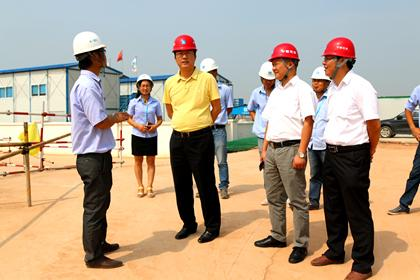boots: (85, 255, 122, 268), (254, 234, 287, 246), (311, 253, 343, 265), (174, 221, 196, 238), (343, 268, 372, 280), (289, 246, 307, 263), (198, 228, 219, 242), (101, 241, 119, 253), (387, 205, 410, 214), (219, 187, 229, 198), (145, 186, 154, 197), (137, 185, 144, 197)
hard-hat: (71, 30, 106, 56), (322, 37, 355, 59), (267, 42, 299, 60), (172, 33, 197, 51), (259, 61, 276, 80), (135, 73, 153, 85)
person: (310, 36, 382, 279), (70, 31, 133, 268), (254, 43, 317, 263), (162, 33, 221, 243), (127, 73, 162, 197)
